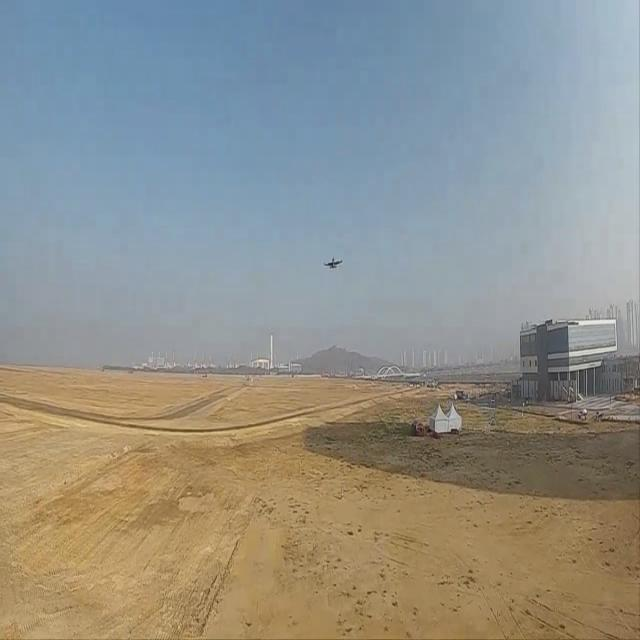iha: (323, 254, 343, 260)
